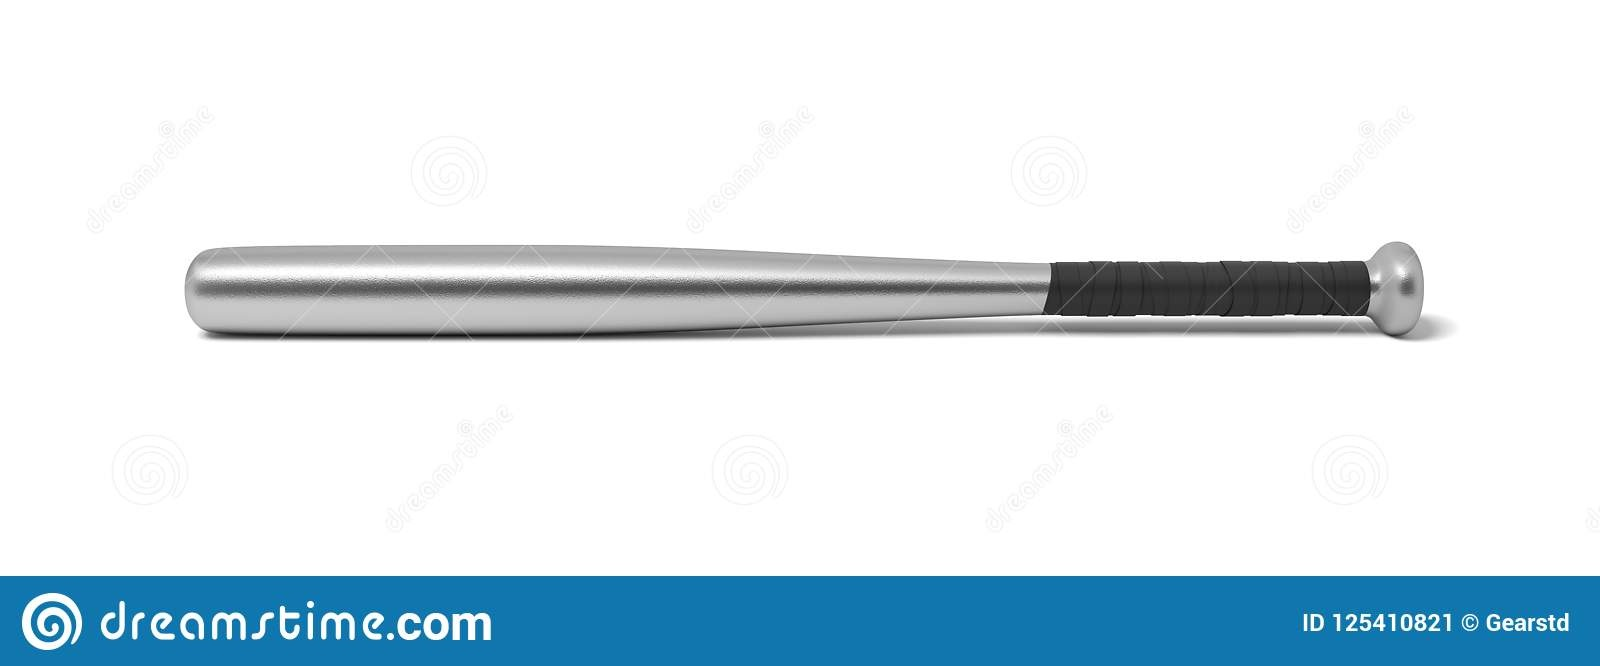bita: (185, 234, 1428, 351)
